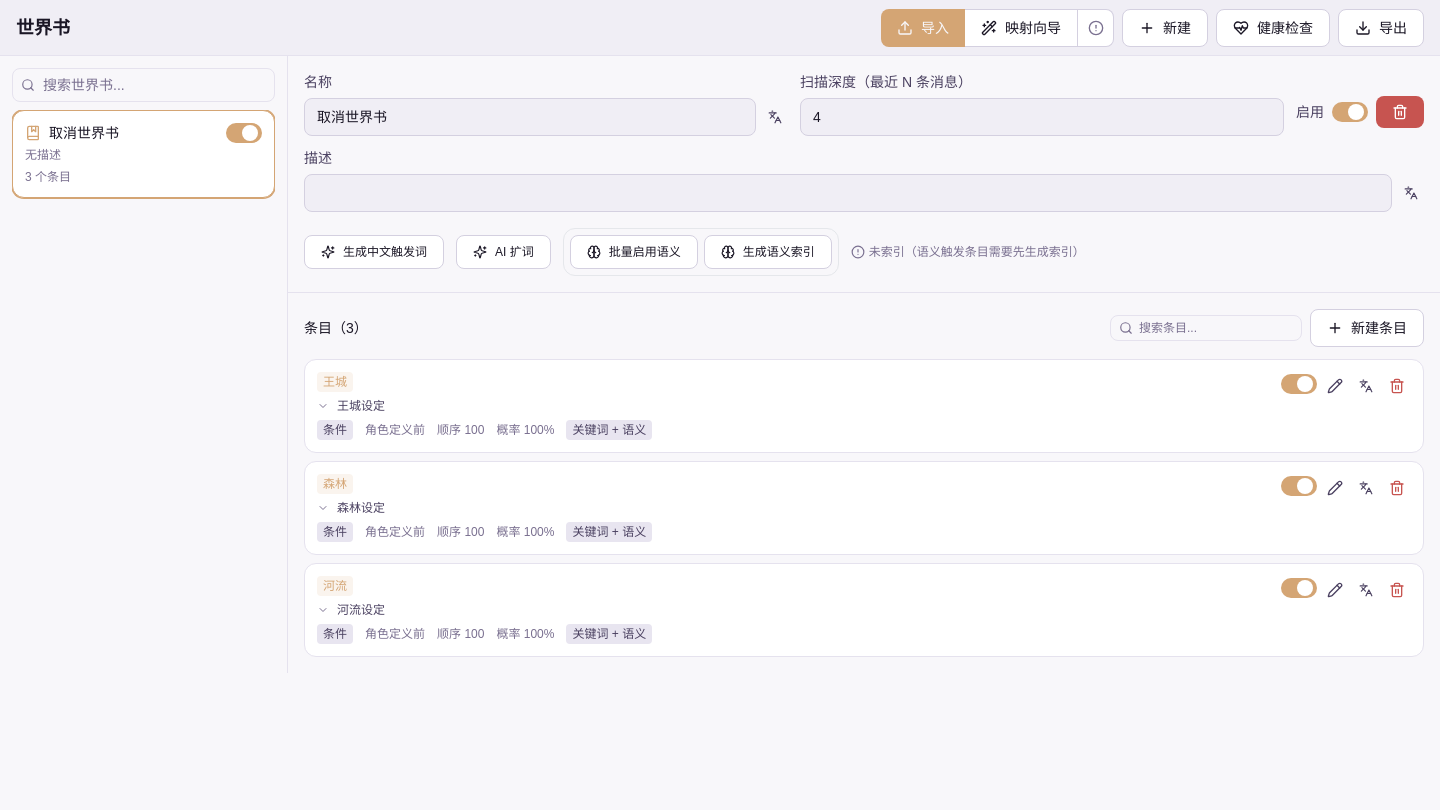
LorebookPage › UEX-P1-28：取消后结果条「已取消：已索引 x/y」，手动关闭前不消失
The image size is (1440, 810).
Click the button "生成语义索引" at (768, 252), box [704, 235, 832, 269]
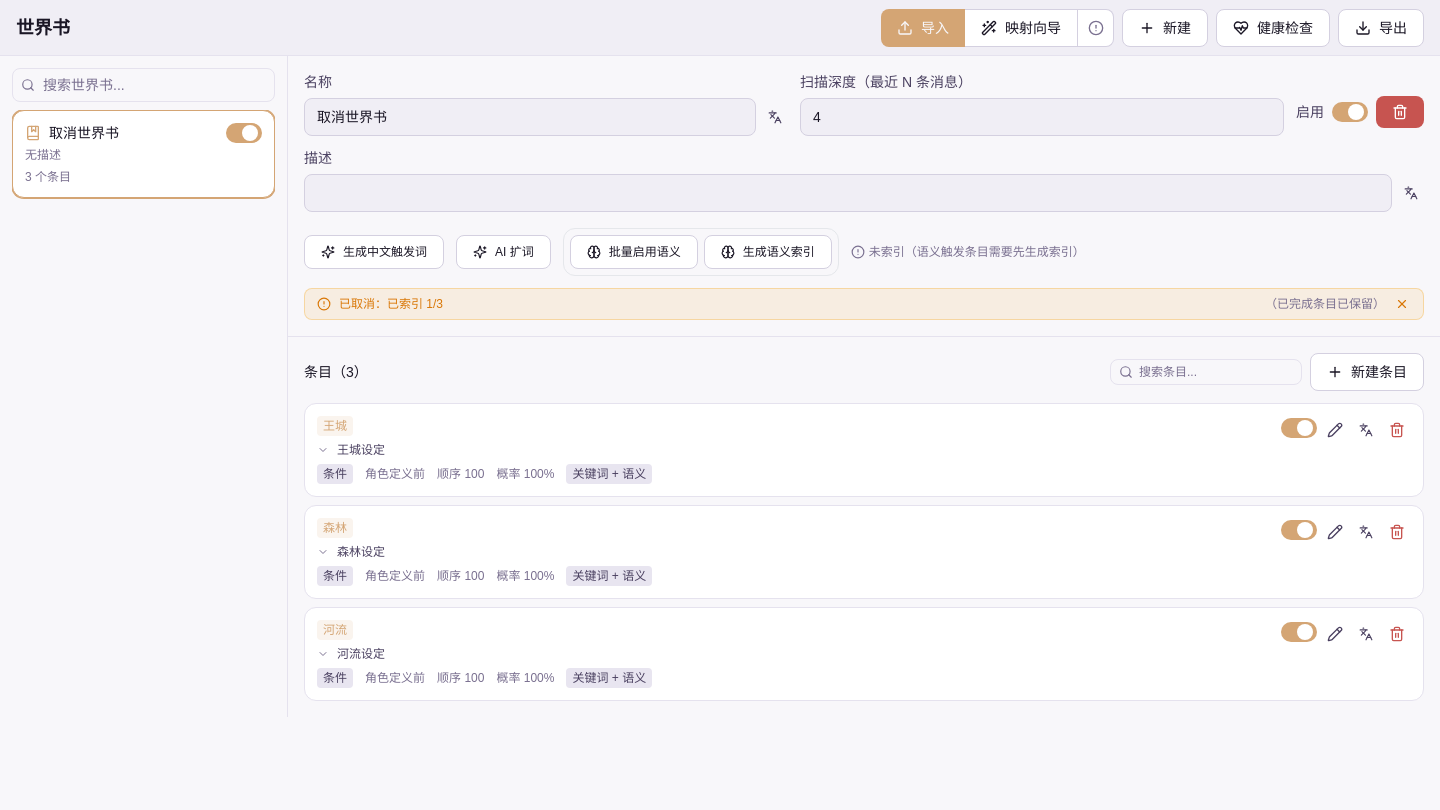
Expected: the text "（已完成条目已保留）" is shown, [1265, 296, 1385, 312]
Expected: the text "已取消：已索引 1/3" is shown, [339, 297, 443, 311]
Click the button titled "关闭" at (1402, 304), box [1393, 295, 1411, 313]
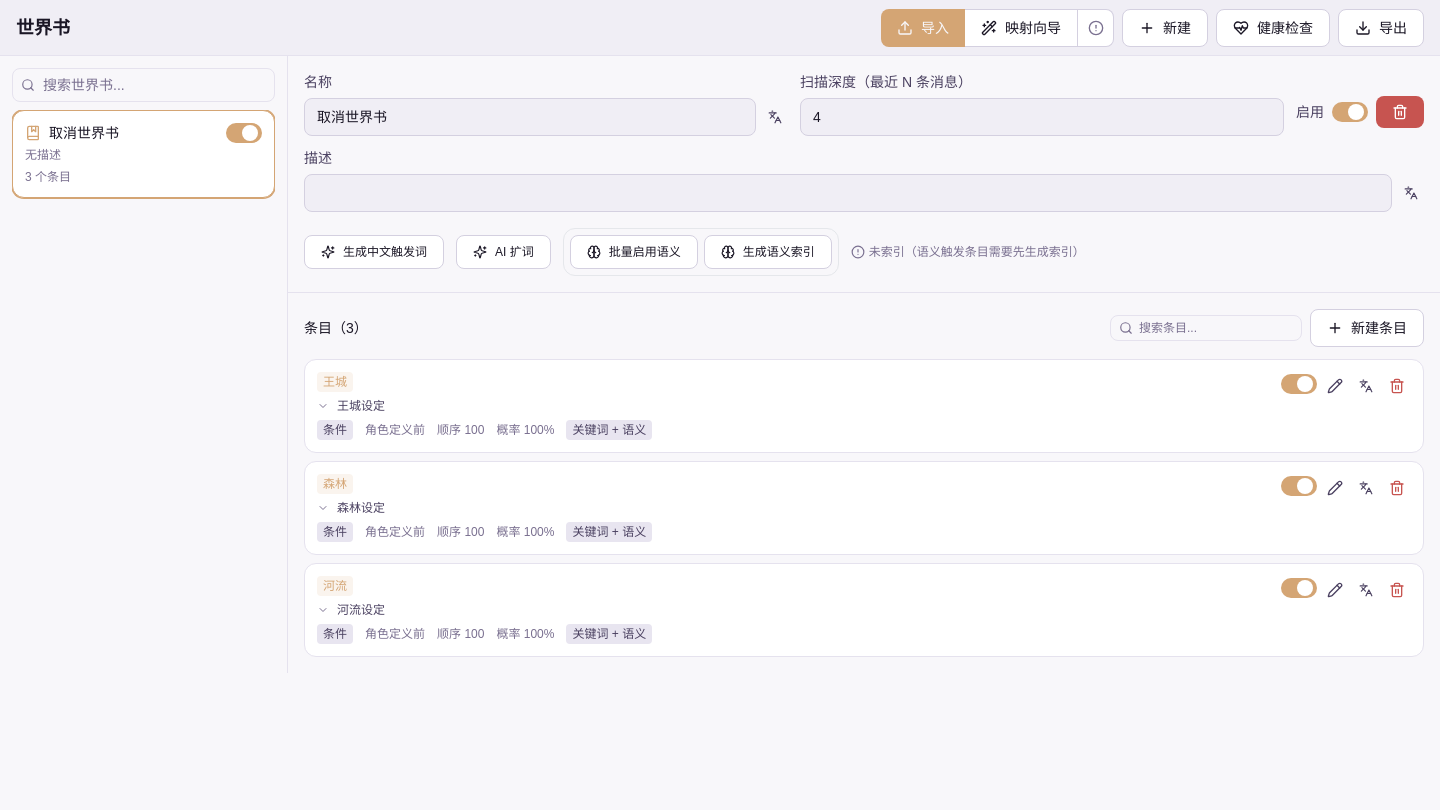
Expected: the text "已取消：已索引 1/3" is gone
